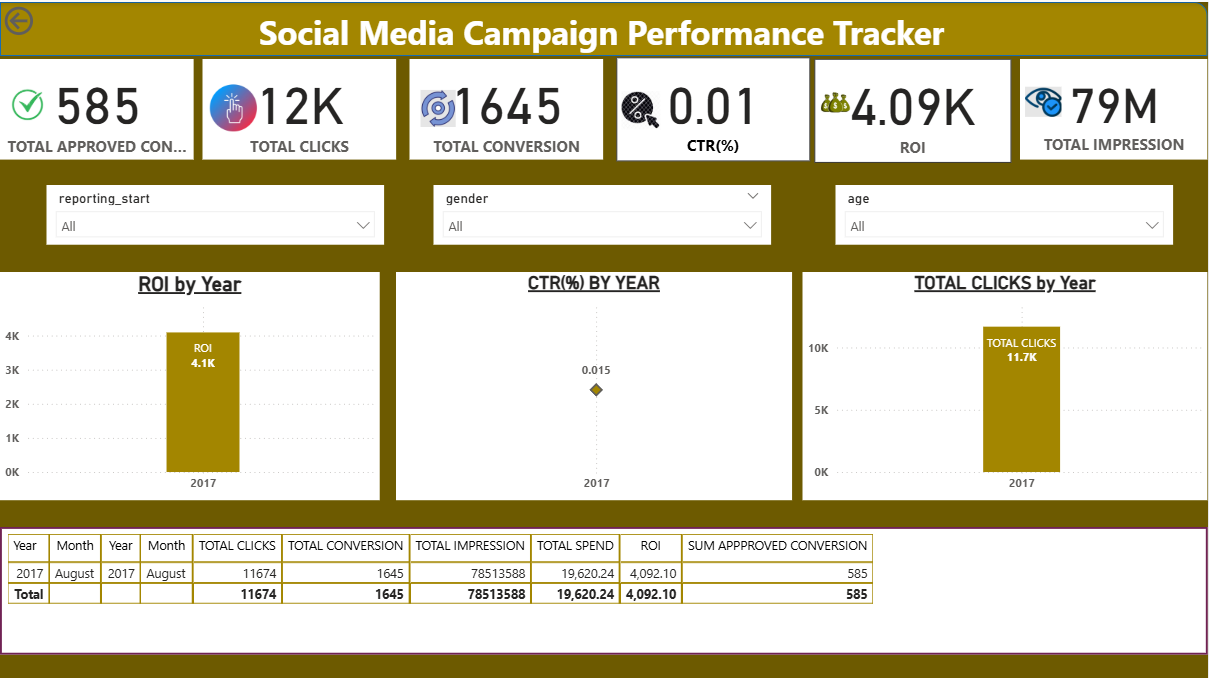

What the dashboard file says about the page in this screenshot:
{"tool":"powerbi","page":{"name":"dashboard 2","canvas":[1280,720],"ordinal":3},"visuals":[{"type":"shape","box":[0,0,1280.4,57.3],"z":0},{"type":"card","fields":{"Values":["data.TOTAL IMPRESSION"]},"box":[1081.6,60.4,198.8,106.6],"z":1000},{"type":"card","fields":{"Values":["data.TOTAL CLICKS"]},"box":[214.7,60.4,205.2,106.6],"z":2000},{"type":"card","fields":{"Values":["data.TOTAL CONVERSION"]},"box":[434.2,60.4,205.2,106.6],"z":3000},{"type":"card","fields":{"Values":["data.SUM APPPROVED CONVERSION"]},"box":[0,60.4,205.2,106.6],"z":4000},{"type":"card","fields":{"Values":["data.ROI"]},"box":[863.7,60.4,208.4,109.8],"z":5000},{"type":"card","fields":{"Values":["data.CTR(%)"]},"box":[653.7,58.9,205.2,109.8],"z":6000},{"type":"lineChart","title":"CTR(%) BY YEAR","fields":{"Category":["data.reporting_start.Variation.Date Hierarchy.Year","data.reporting_start.Variation.Date Hierarchy.Quarter","data.reporting_start.Variation.Date Hierarchy.Month","data.reporting_start.Variation.Date Hierarchy.Day"],"Y":["data.CTR(%)"]},"box":[419.9,286.3,419.9,241.8],"z":7000},{"type":"columnChart","fields":{"Category":["data.reporting_start.Variation.Date Hierarchy.Year","data.reporting_start.Variation.Date Hierarchy.Quarter","data.reporting_start.Variation.Date Hierarchy.Month","data.reporting_start.Variation.Date Hierarchy.Day"],"Y":["data.ROI"]},"box":[0,286.3,402.4,241.8],"z":8000},{"type":"clusteredColumnChart","fields":{"Category":["data.reporting_start.Variation.Date Hierarchy.Year","data.reporting_start.Variation.Date Hierarchy.Quarter","data.reporting_start.Variation.Date Hierarchy.Month","data.reporting_start.Variation.Date Hierarchy.Day"],"Y":["data.TOTAL CLICKS"]},"box":[851,286.3,429.5,241.8],"z":9000},{"type":"tableEx","fields":{"Values":["data.reporting_start.Variation.Date Hierarchy.Year","data.reporting_start.Variation.Date Hierarchy.Month","data.reporting_end.Variation.Date Hierarchy.Year","data.reporting_end.Variation.Date Hierarchy.Month","data.TOTAL CLICKS","data.TOTAL CONVERSION","data.TOTAL IMPRESSION","data.TOTAL SPEND","data.ROI","data.SUM APPPROVED CONVERSION"]},"box":[0,556.7,1280.4,135.2],"z":10000},{"type":"actionButton","box":[0,0,100,40],"z":11000},{"type":"slicer","fields":{"Values":["data.gender"]},"box":[459.7,194.1,357.9,63.6],"z":12000},{"type":"slicer","fields":{"Values":["data.age"]},"box":[886,194.1,357.9,63.6],"z":13000},{"type":"slicer","fields":{"Values":["data.reporting_start"]},"box":[49.3,194.1,357.9,63.6],"z":14000},{"type":"image","box":[214.7,79.5,65.2,65.2],"z":20001},{"type":"image","box":[1081.6,73.2,49.3,65.2],"z":20002},{"type":"image","box":[440.6,85.9,47.7,54.1],"z":20003},{"type":"image","box":[863.7,65.2,44.5,81.1],"z":20004},{"type":"image","box":[0,60.4,60.4,93.8],"z":20005},{"type":"image","box":[653.7,89.1,52.5,50.9],"z":20006}]}

Visuals, with their boxes in screenshot pixels (x1, y1, x2, y2), scaled from the page's 1280x720 canvas onto the 1209x678 screenshot:
shape: select_region(0, 0, 1208, 54)
card - data.TOTAL IMPRESSION: select_region(1022, 57, 1208, 157)
card - data.TOTAL CLICKS: select_region(203, 57, 397, 157)
card - data.TOTAL CONVERSION: select_region(410, 57, 604, 157)
card - data.SUM APPPROVED CONVERSION: select_region(0, 57, 194, 157)
card - data.ROI: select_region(816, 57, 1013, 160)
card - data.CTR(%): select_region(617, 55, 811, 159)
"CTR(%) BY YEAR" lineChart: select_region(397, 270, 793, 497)
columnChart - data.reporting_start.Variation.Date Hierarchy.Year x data.reporting_start.Variation.Date Hierarchy.Quarter: select_region(0, 270, 380, 497)
clusteredColumnChart - data.reporting_start.Variation.Date Hierarchy.Year x data.reporting_start.Variation.Date Hierarchy.Quarter: select_region(804, 270, 1208, 497)
tableEx - data.reporting_start.Variation.Date Hierarchy.Year x data.reporting_start.Variation.Date Hierarchy.Month: select_region(0, 524, 1208, 652)
actionButton: select_region(0, 0, 94, 38)
slicer - data.gender: select_region(434, 183, 772, 243)
slicer - data.age: select_region(837, 183, 1175, 243)
slicer - data.reporting_start: select_region(47, 183, 385, 243)
image: select_region(203, 75, 264, 136)
image: select_region(1022, 69, 1068, 130)
image: select_region(416, 81, 461, 132)
image: select_region(816, 61, 858, 138)
image: select_region(0, 57, 57, 145)
image: select_region(617, 84, 667, 132)
